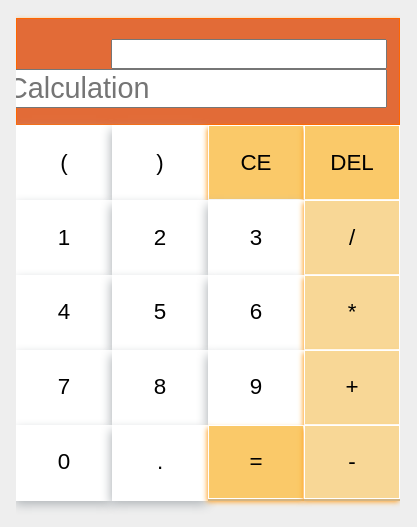
Scenario: Calculator Tests › Test that when you click button + and there is nothing in the input except 0 it will be added › (button)+ after 0 in beginning
Click the button "0" at (64, 462), box [16, 425, 112, 499]
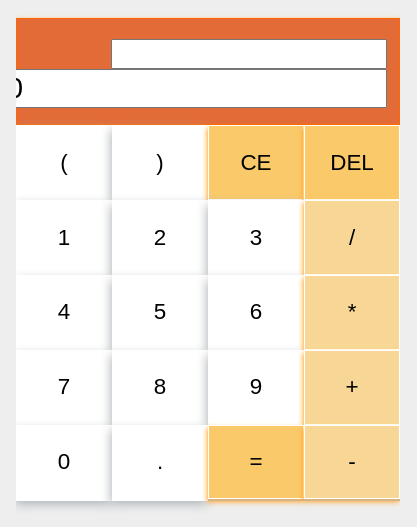
Click the button "+" at (352, 387), box [304, 350, 400, 425]
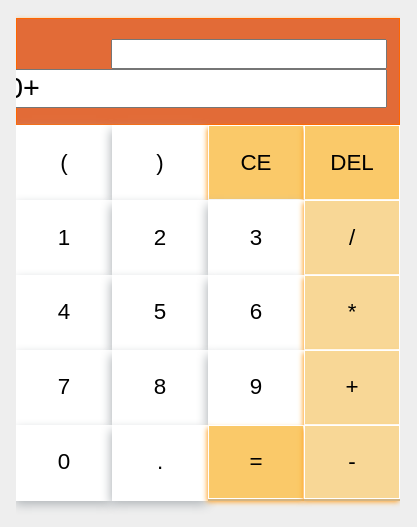
Check: the 2nd field holds "0+", box [16, 69, 387, 108]
